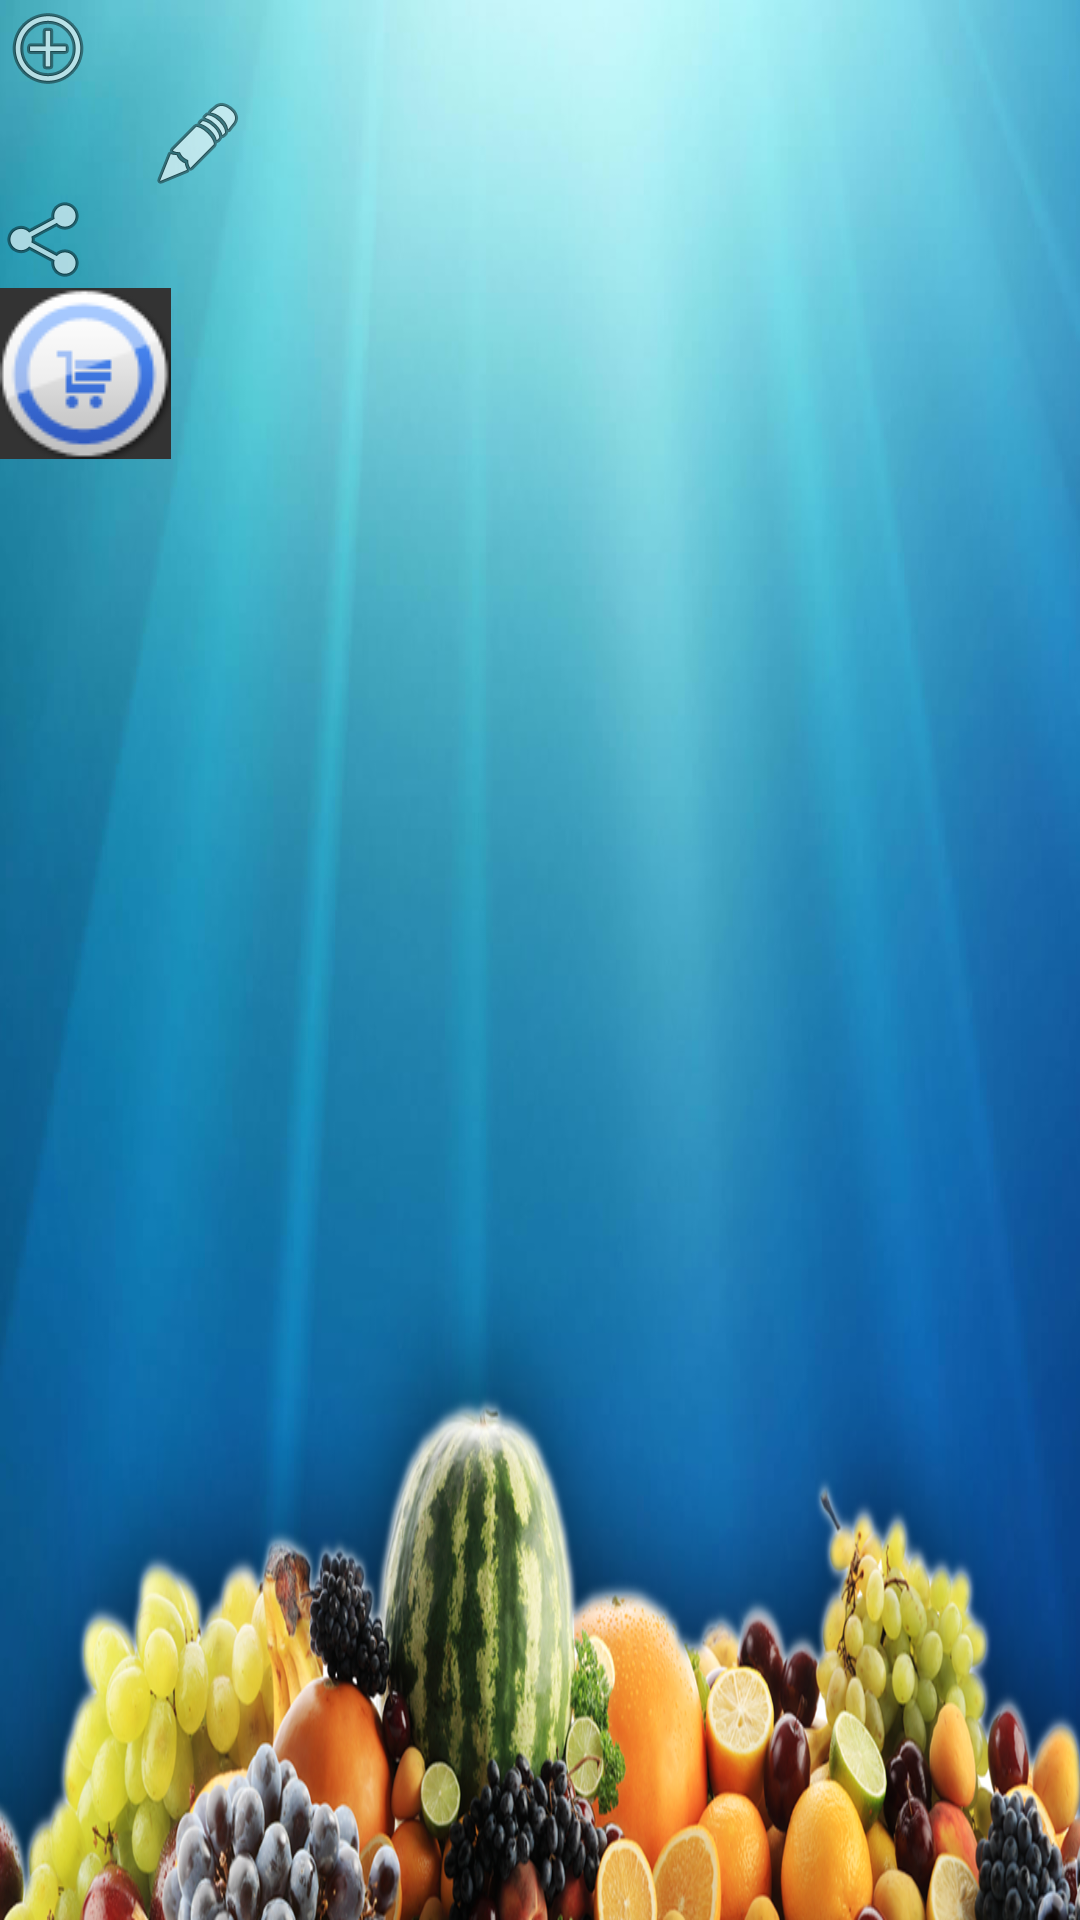

Icons on this 1080x1920 Android screen, each with the point to tap as [x,y]:
add: [48,48]
compra: [85,373]
edit: [201,144]
share: [40,240]
